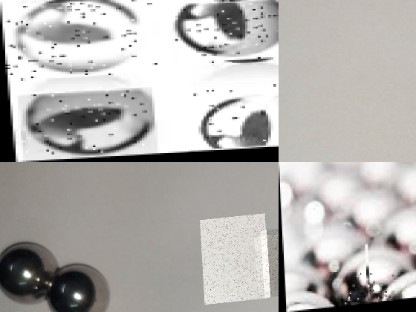ironball: (0, 0, 156, 80), (15, 89, 154, 161), (171, 0, 278, 68), (180, 87, 278, 153), (0, 228, 62, 306), (338, 245, 413, 304), (48, 261, 113, 309), (414, 292, 415, 300)
